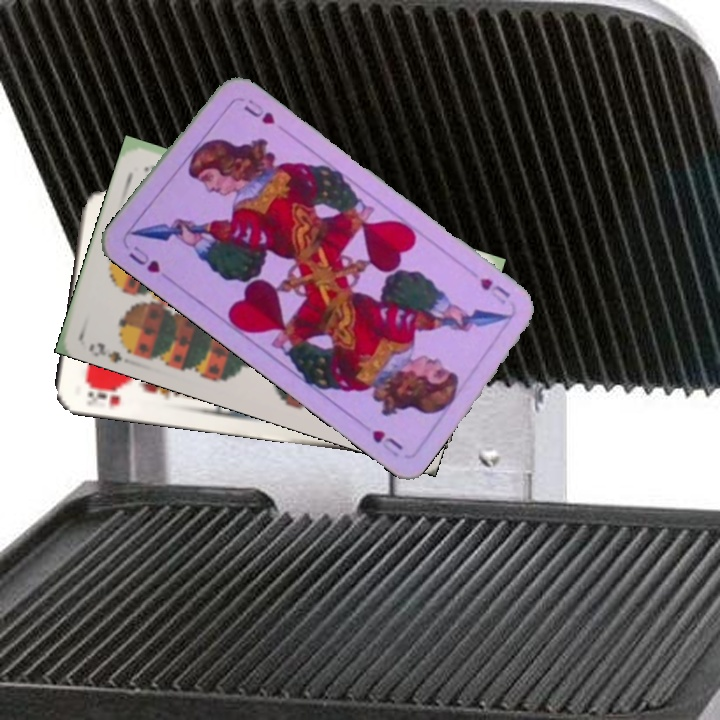HK: (80, 380, 127, 409)
HU: (124, 241, 163, 276), (475, 273, 513, 301)
S9: (84, 338, 142, 364)
